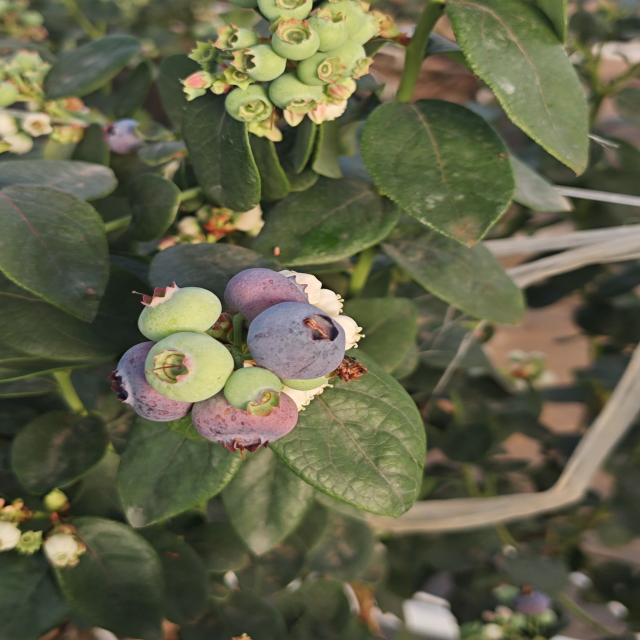ripe: (243, 299, 349, 385), (124, 353, 183, 430)
